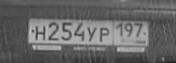license-plateSW: (26, 17, 151, 48)
